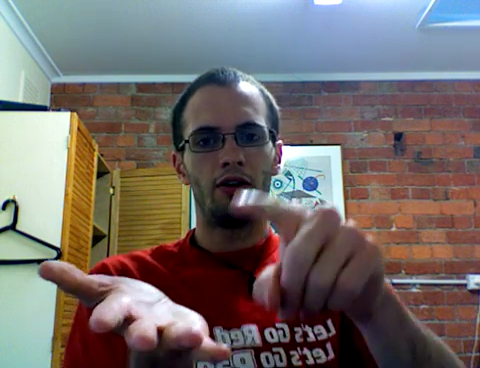L: (26, 177, 396, 363)
